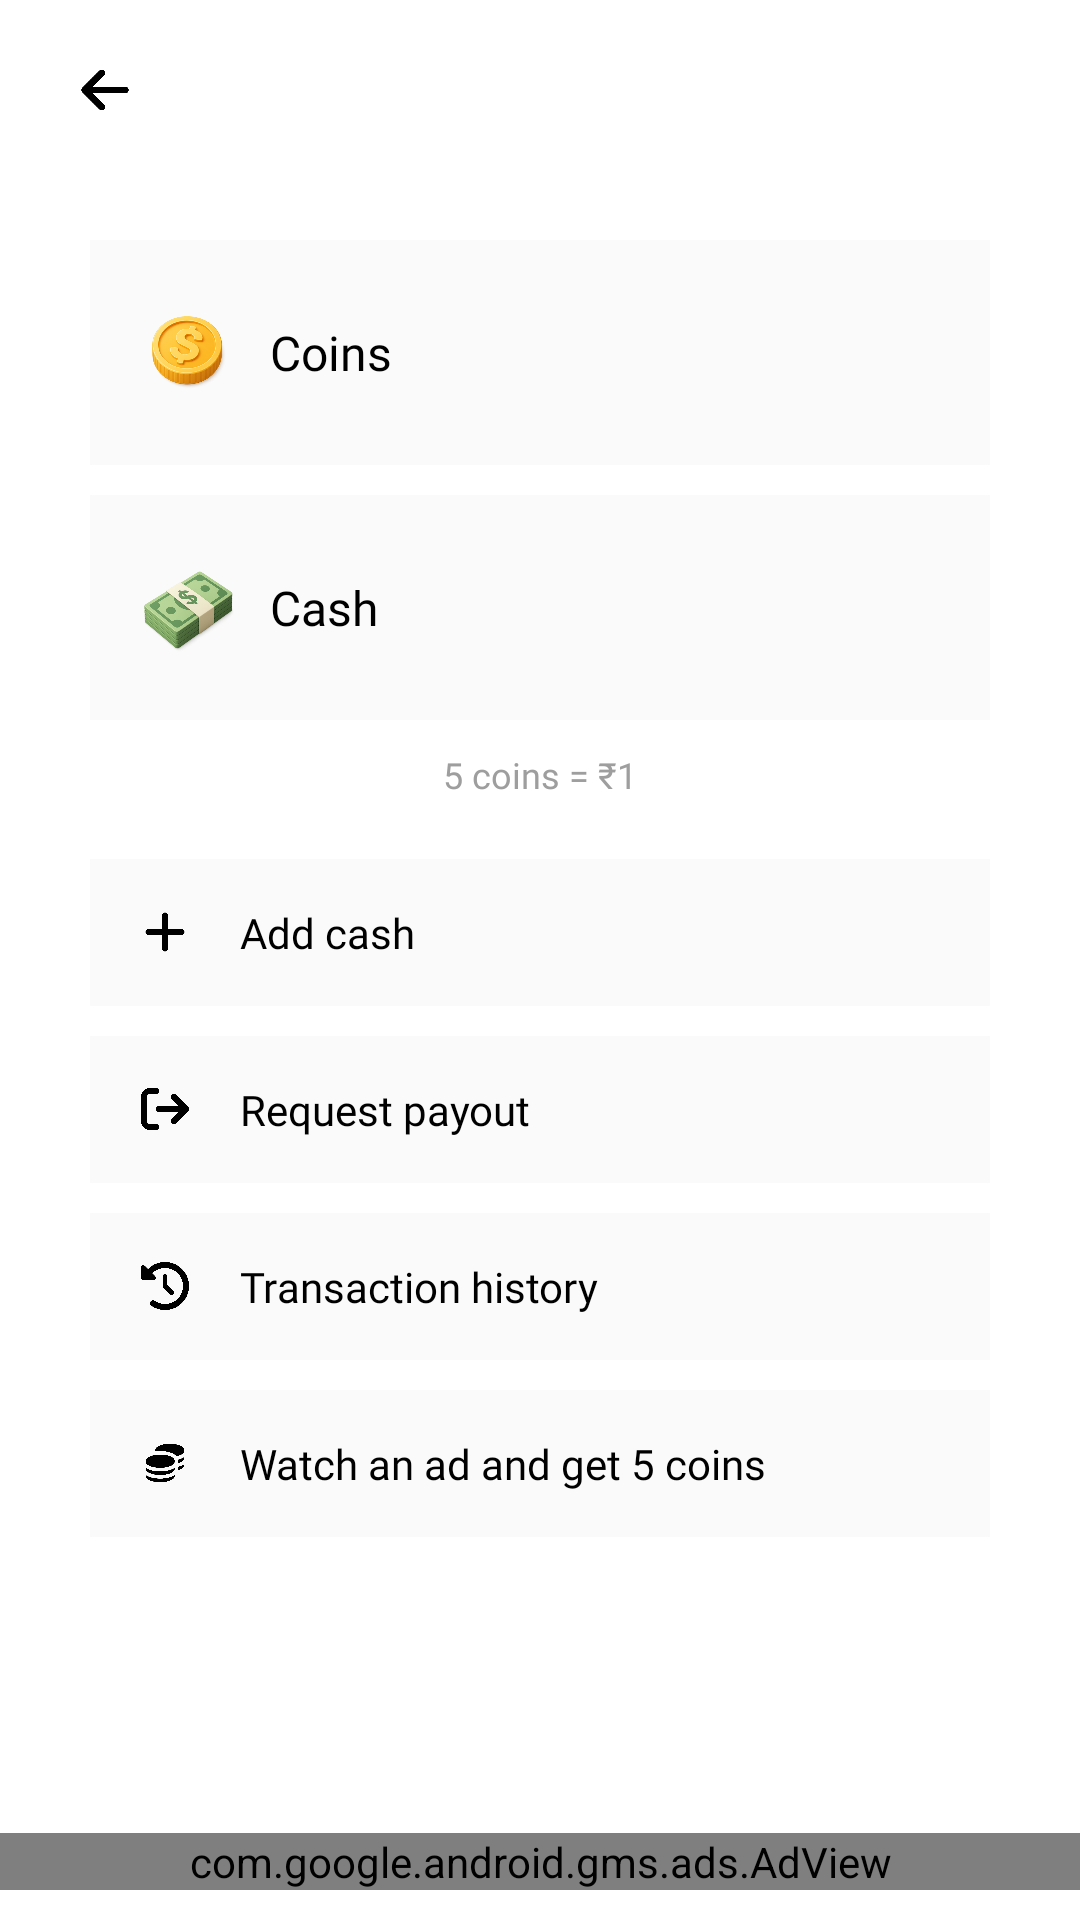

Where to tap for icons on this 1080x1920 app screen, as [x,y]:
earn coins: [165,1463]
